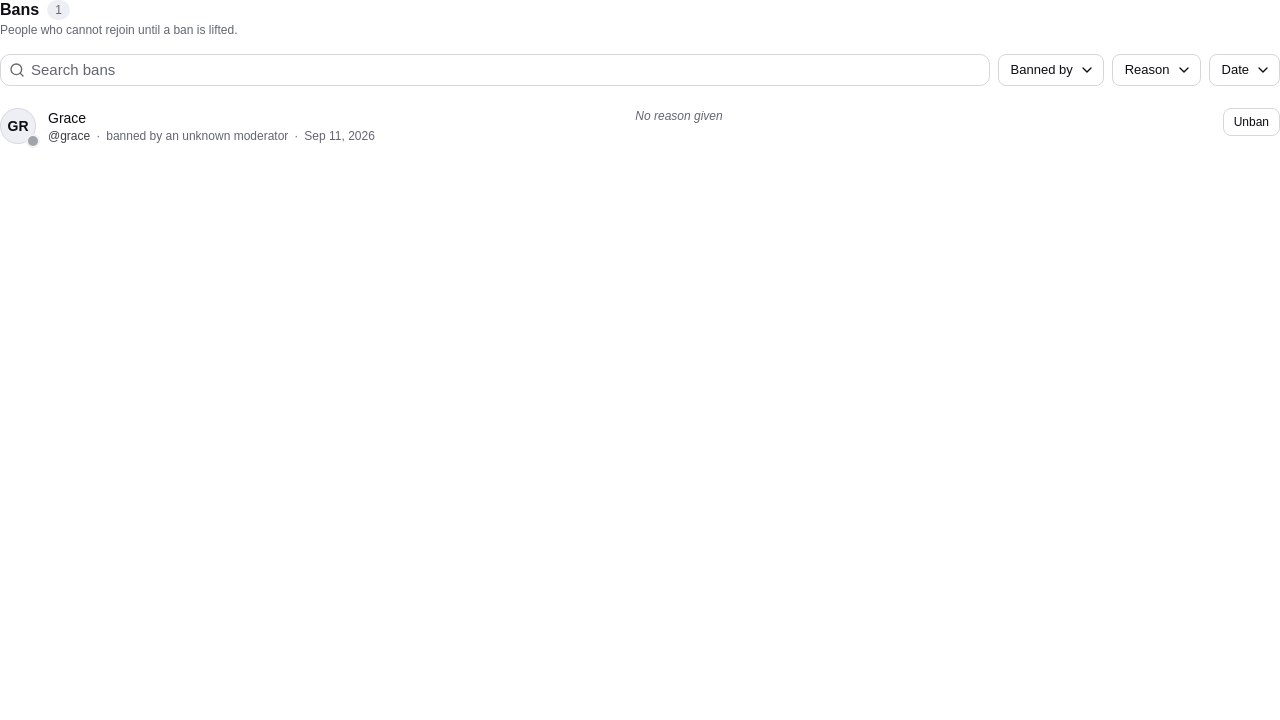
Scenario: BansPage › confirms before lifting a ban
This screenshot has width=1280, height=720.
Click the button with aria-label "Unban Grace".
click(1251, 122)  # box [1223, 108, 1279, 136]
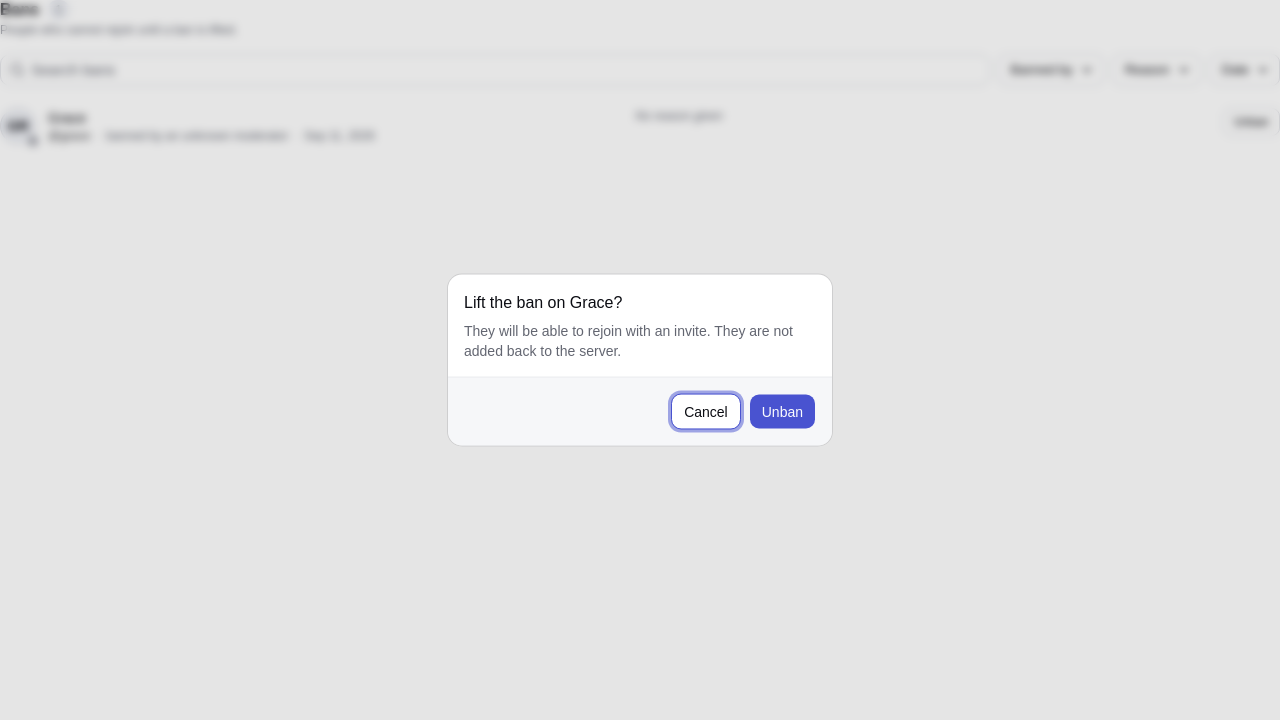
Expected: the heading "Lift the ban on Grace?" is shown, [464, 290, 622, 314]
